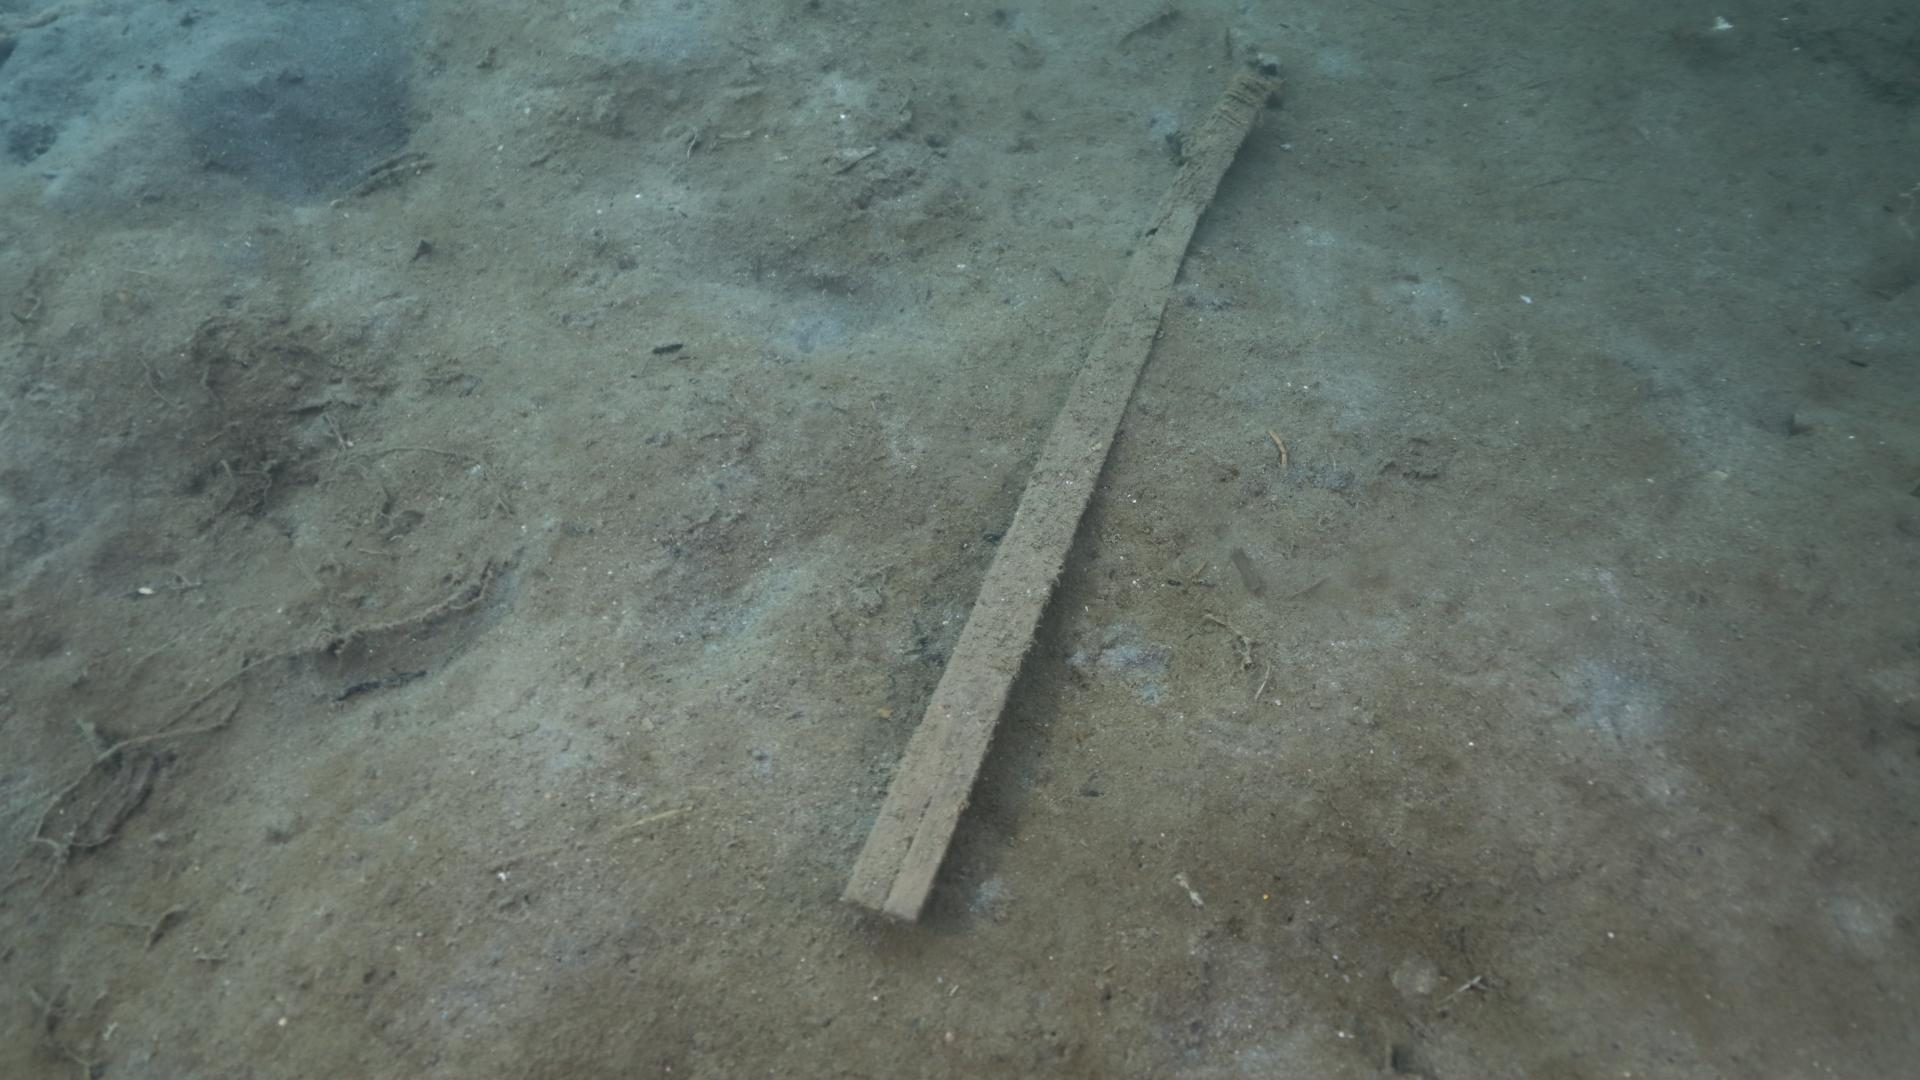wood: (837, 63, 1274, 928)
